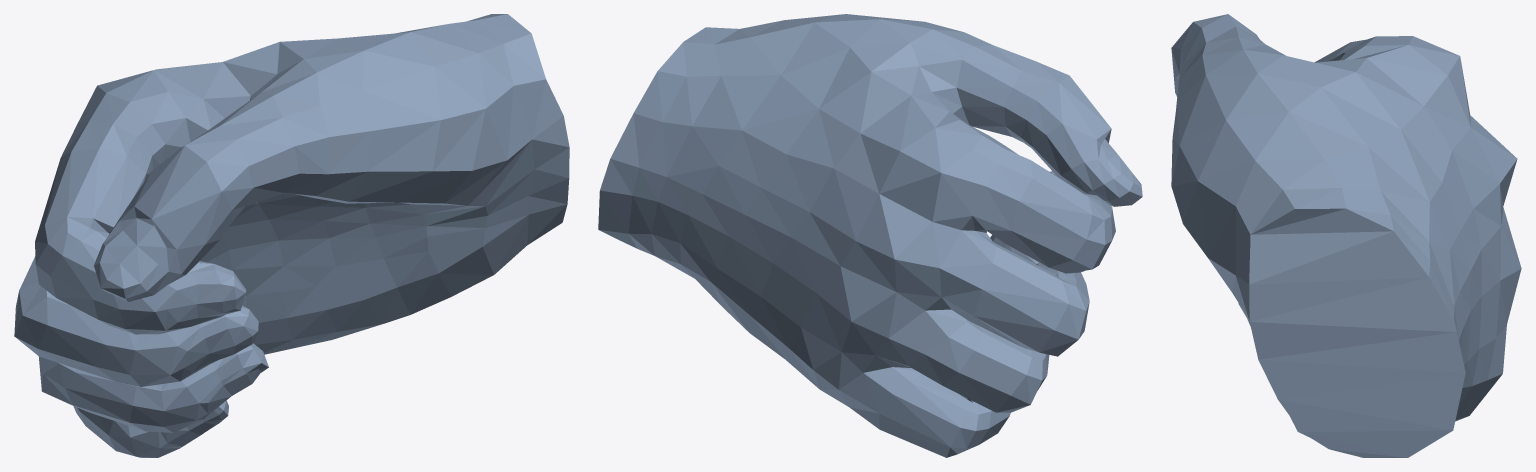
File: frame_00020_0.obj
The picture shows the model from 3 angles, left to right: view 1: azimuth 30°, elevation 25°; view 2: azimuth 150°, elevation 25°; view 3: azimuth 270°, elevation 25°; orthographic projection. The views are drawn at different scales.
Size of the model in its own units: 0.1378 by 0.101 by 0.0767.
